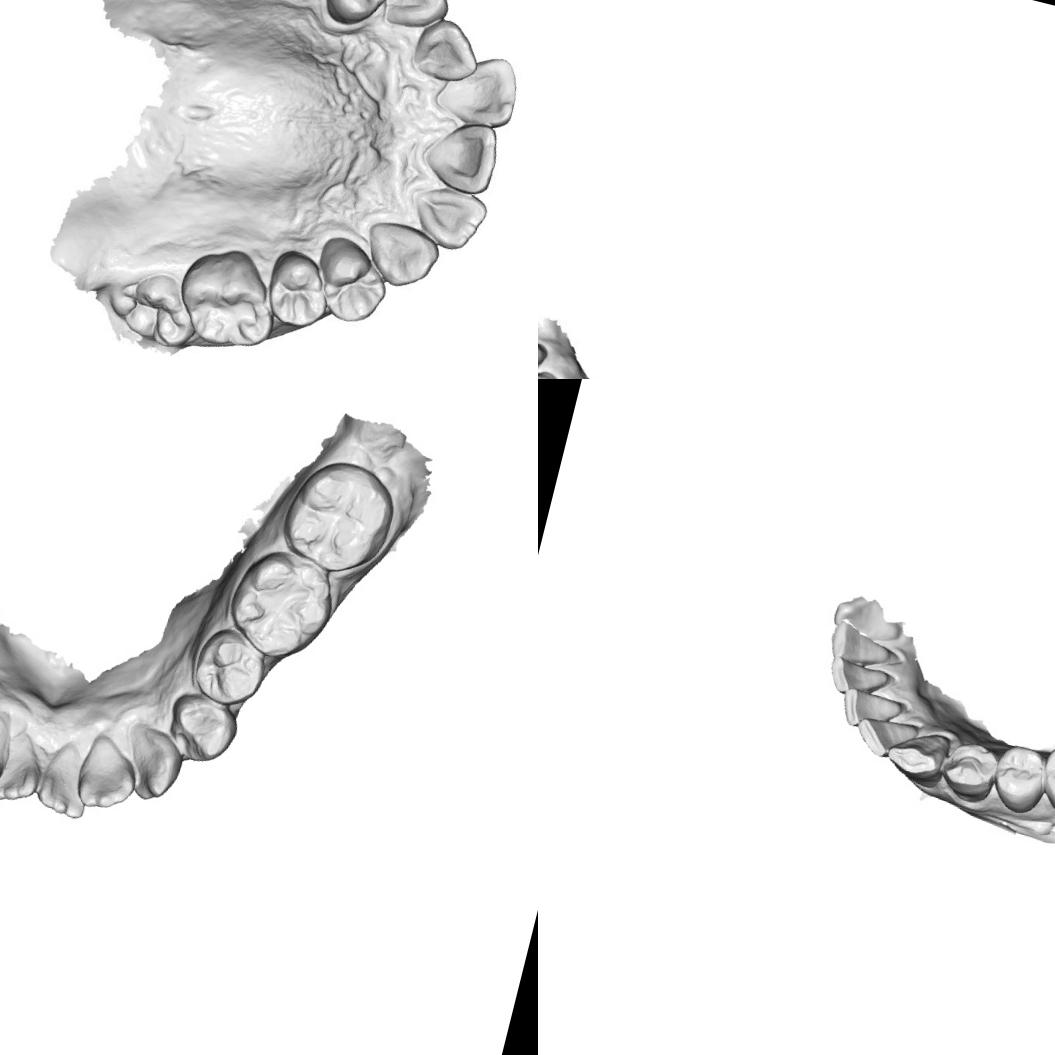canine: (363, 217, 445, 293), (119, 723, 187, 808), (881, 722, 953, 792), (377, 0, 460, 39)
incisor: (428, 48, 520, 127), (424, 116, 506, 204), (69, 732, 147, 820), (409, 177, 494, 254), (29, 740, 100, 822), (411, 12, 482, 82), (0, 728, 56, 810), (850, 709, 920, 764), (826, 618, 898, 671), (823, 654, 890, 705), (836, 686, 900, 737), (538, 325, 559, 379), (0, 707, 14, 788)
molar: (275, 448, 400, 578), (220, 542, 343, 668), (172, 242, 282, 352), (110, 264, 197, 355), (1034, 732, 1055, 830)
premolar: (304, 232, 398, 332), (184, 622, 272, 712), (158, 685, 244, 771), (259, 242, 332, 334), (986, 741, 1050, 817), (936, 735, 1000, 808), (318, 0, 394, 40)
